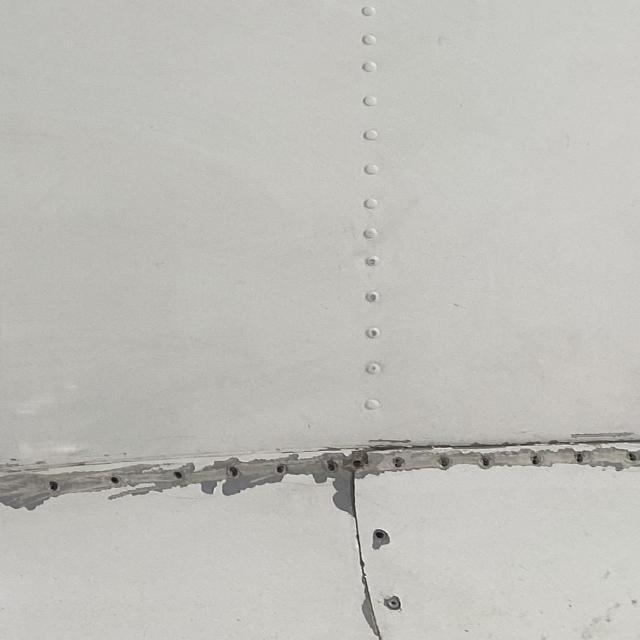Crack: (349, 431, 640, 464)
Missing-head: (373, 529, 388, 540)
Paint-off: (360, 568, 383, 640), (333, 478, 357, 525), (371, 537, 389, 550)
Scratch: (0, 442, 622, 521)
